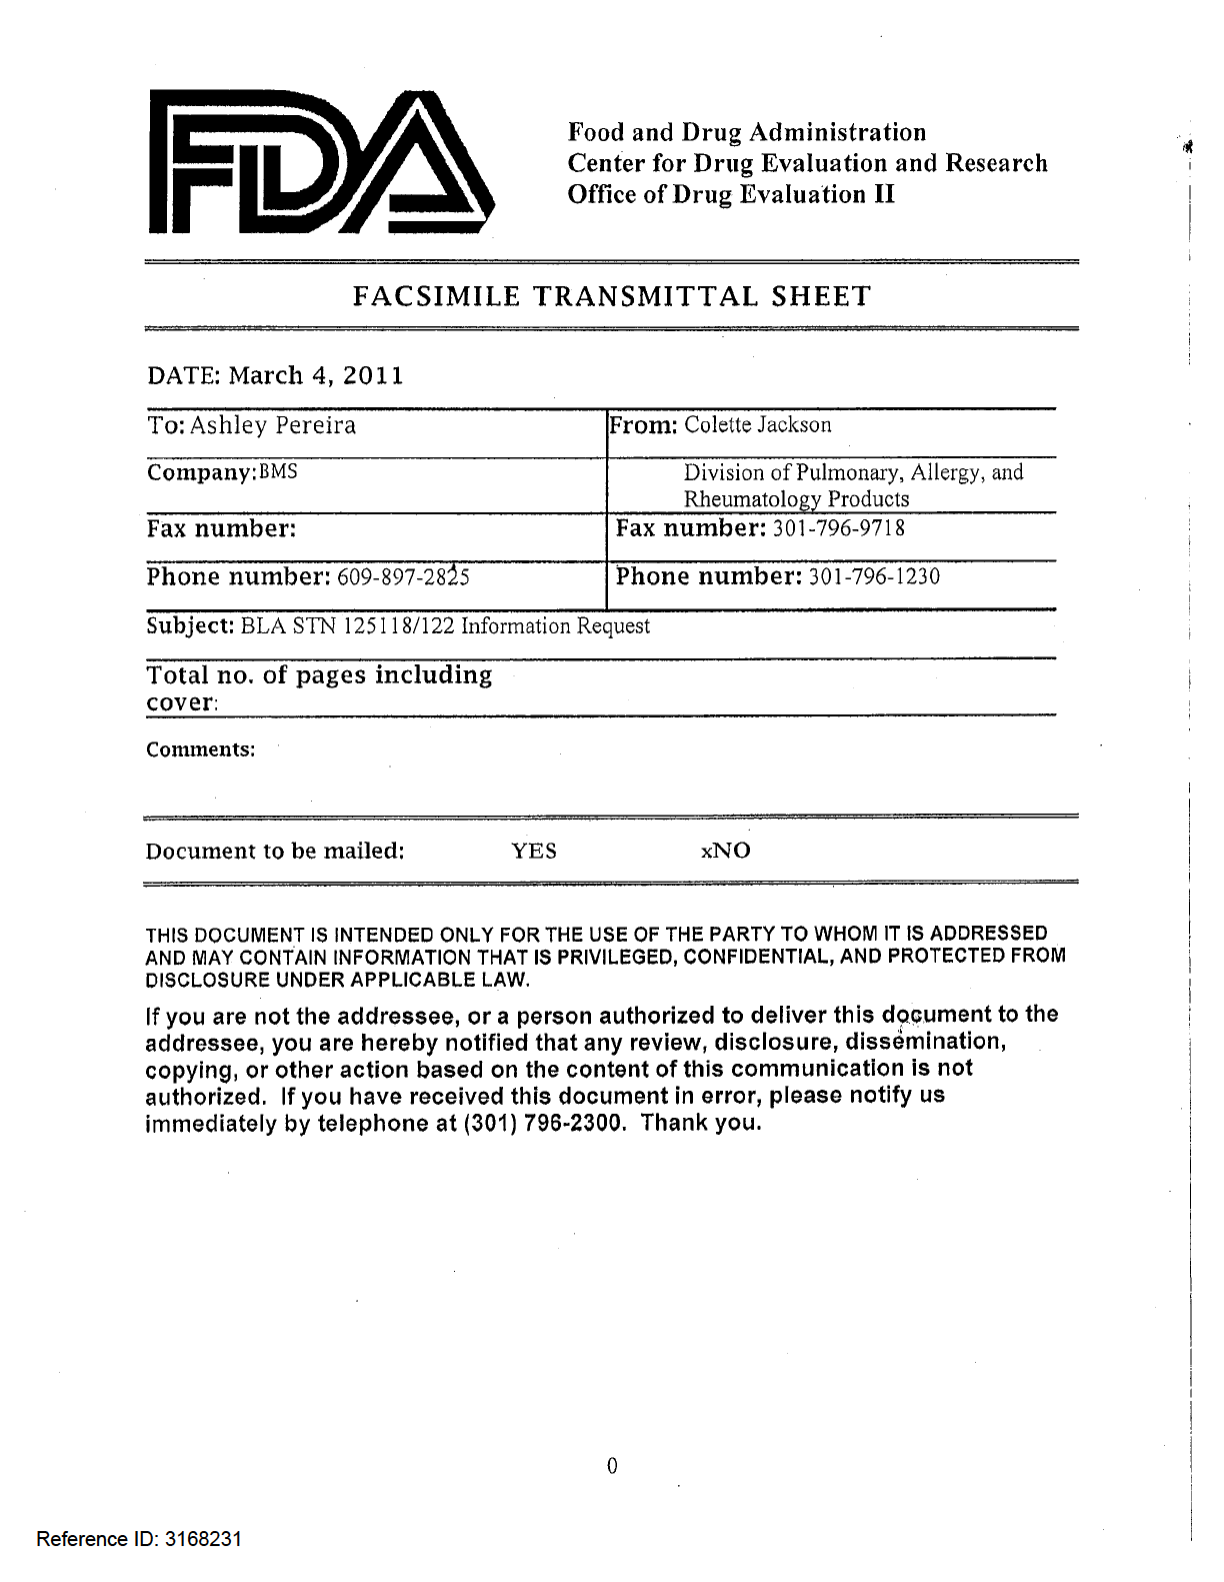partial_lined_merged_cells: (143, 322, 1081, 891)
